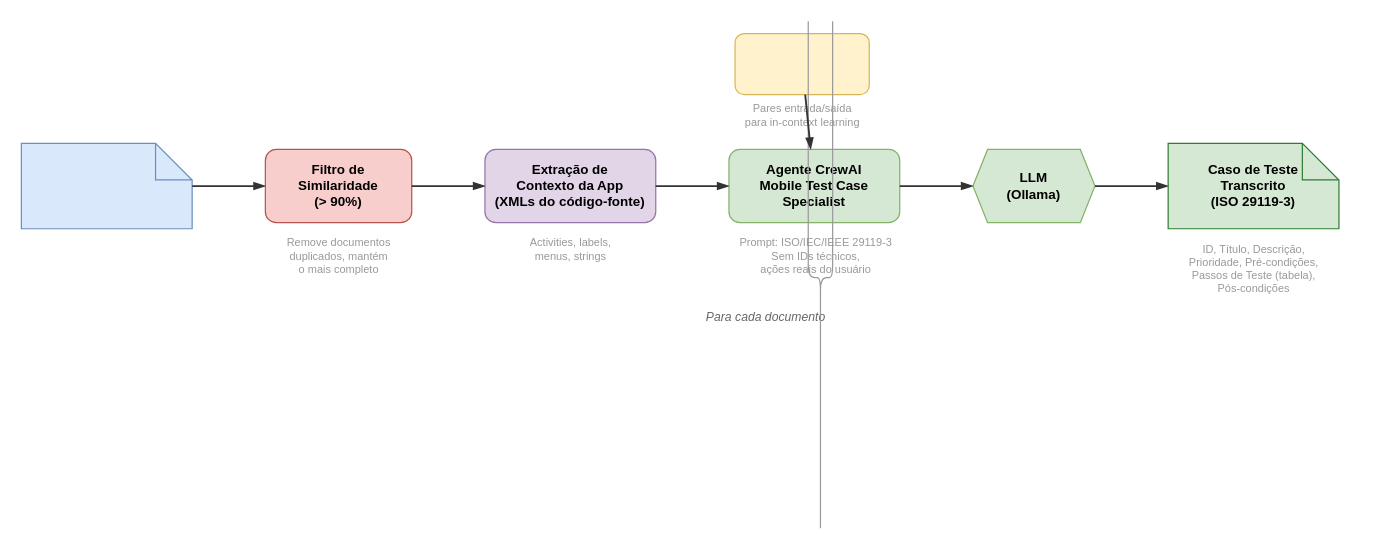
Image size: 1373x555. Some labels were removed from this diagram. The box of each missing label's shape, as (x1, y1, x2, y2) in pixels:
Few-Shot Examples: (734, 32, 869, 95)
Logs Brutos de Interação (test_cases/): (20, 142, 192, 229)
